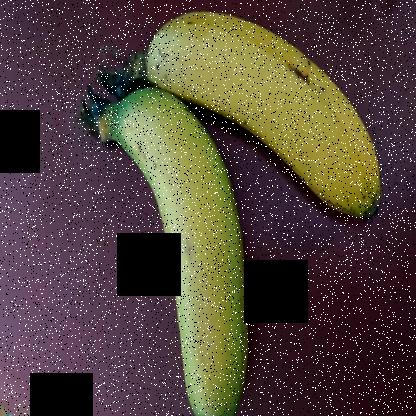freshripe: (78, 72, 268, 415), (126, 1, 388, 222)
